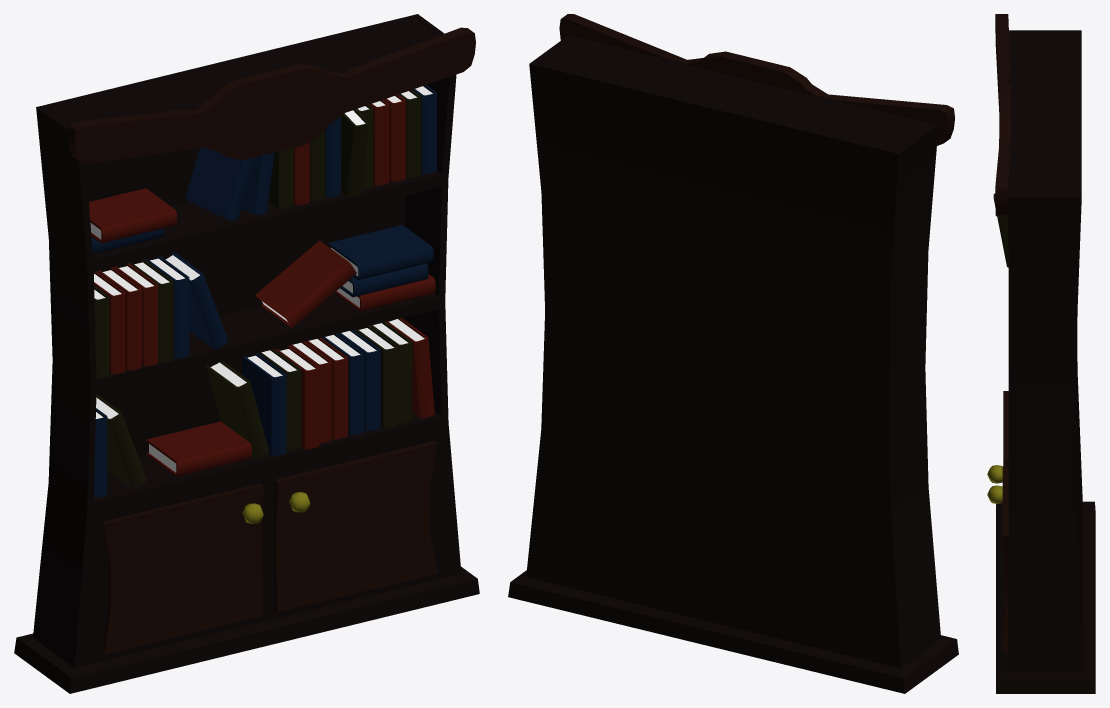
File: prop_bookshelf_1.FBX
3 views of the same model, side by side, from view 1: azimuth 30°, elevation 25°; view 2: azimuth 150°, elevation 25°; view 3: azimuth 270°, elevation 25° (orthographic). The views are drawn at different scales.
Parts seen in each view (by area): view 1: Bookshelf 1; view 2: Bookshelf 1; view 3: Bookshelf 1.
Boxes of the visible parts, x1=… form: Bookshelf 1: x1=14, y1=14, x2=479, y2=693; Bookshelf 1: x1=508, y1=14, x2=958, y2=693; Bookshelf 1: x1=987, y1=14, x2=1095, y2=693.
Size of the model in its own units: 0.8106 by 1.07 by 0.2078.
